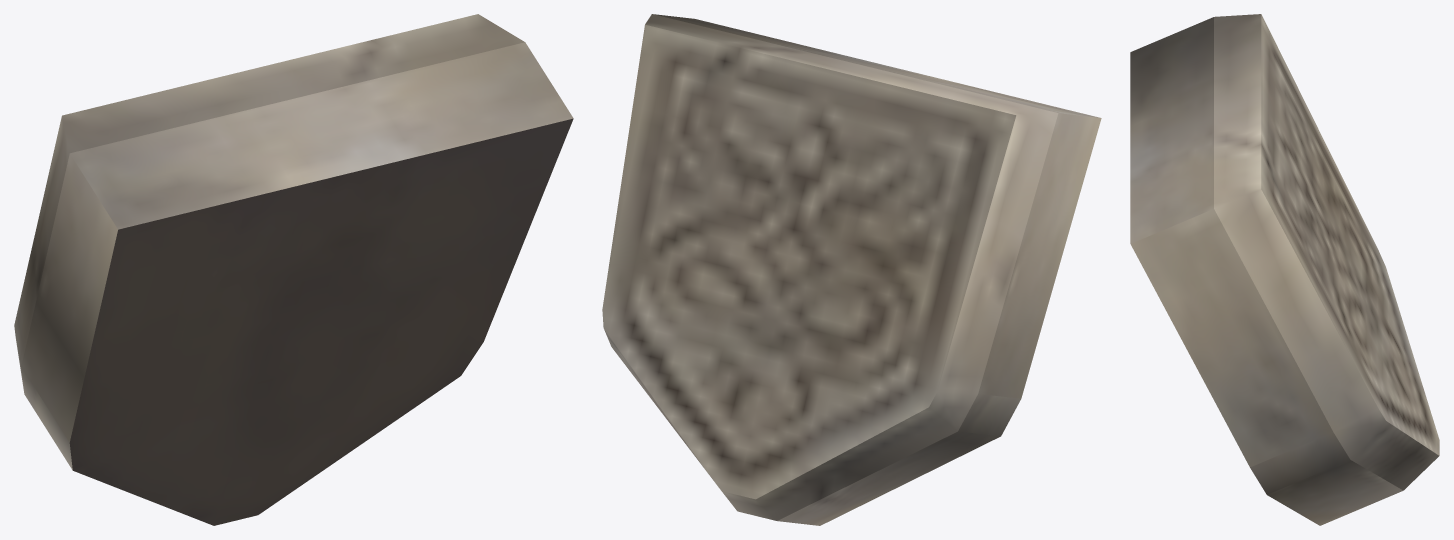
File: prop_list_18_1.FBX
3 renders of one model, left to right at view 1: azimuth 30°, elevation 25°; view 2: azimuth 150°, elevation 25°; view 3: azimuth 270°, elevation 25°, orthographic. The views are drawn at different scales.
Parts seen in each view (by area): view 1: prop_list_18_1; view 2: prop_list_18_1; view 3: prop_list_18_1.
Part boxes in pixels (box(x1,y1,x2,y2)): prop_list_18_1: box(14, 14, 573, 525); prop_list_18_1: box(602, 14, 1101, 525); prop_list_18_1: box(1130, 14, 1439, 525).
Size of the model in its own units: 19.11 by 19.27 by 13.
